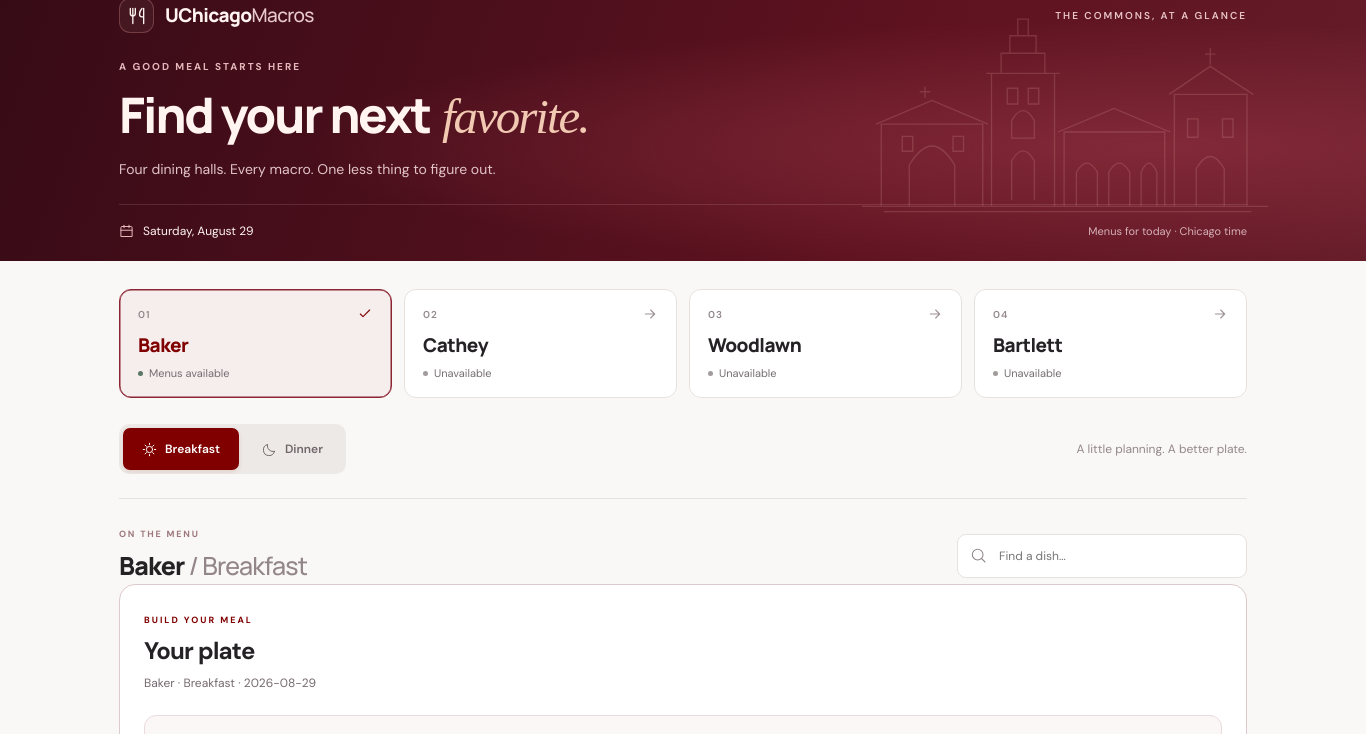
Test: continues in memory and explains when browser storage fails
Click the button "Breakfast" at {"x": 181, "y": 449}, box [123,428,239,470]
(page scrolled)
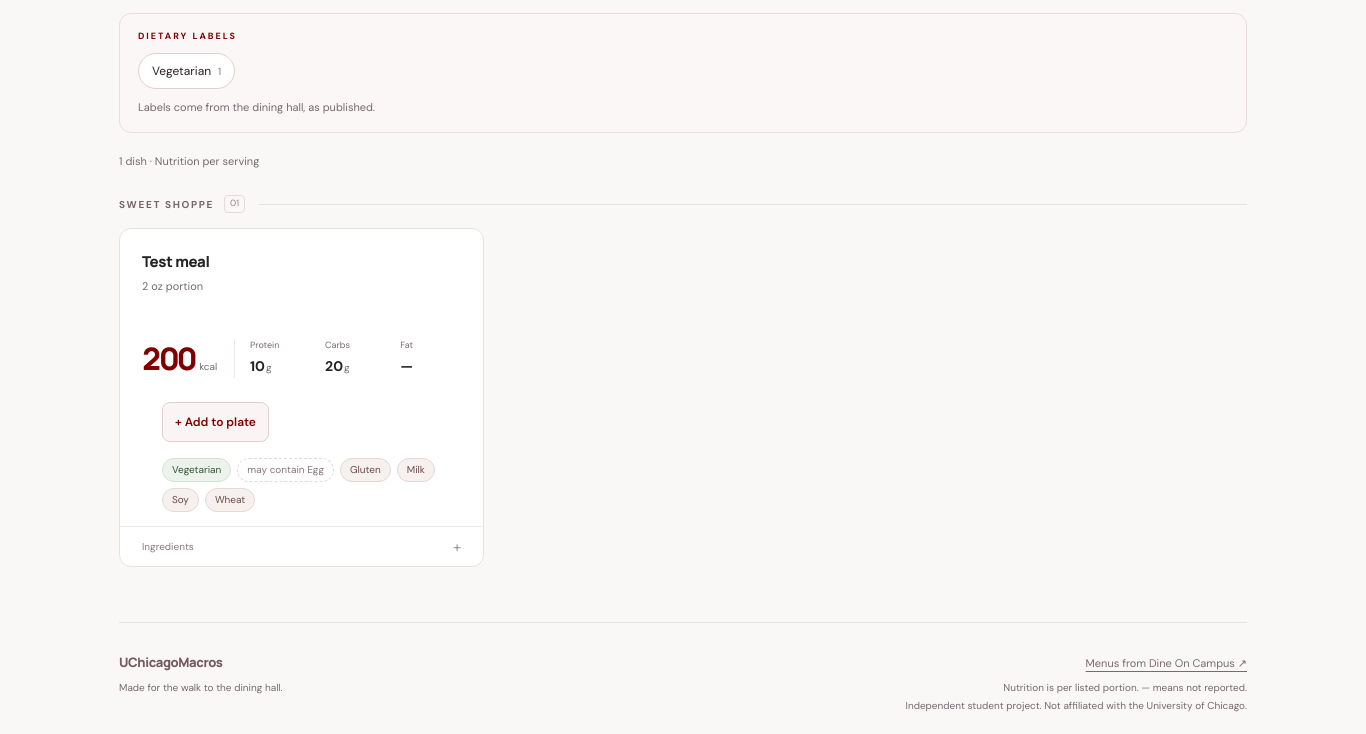
Click the button with aria-label "Add Test meal to plate" at {"x": 216, "y": 422}, box [162,402,269,442]
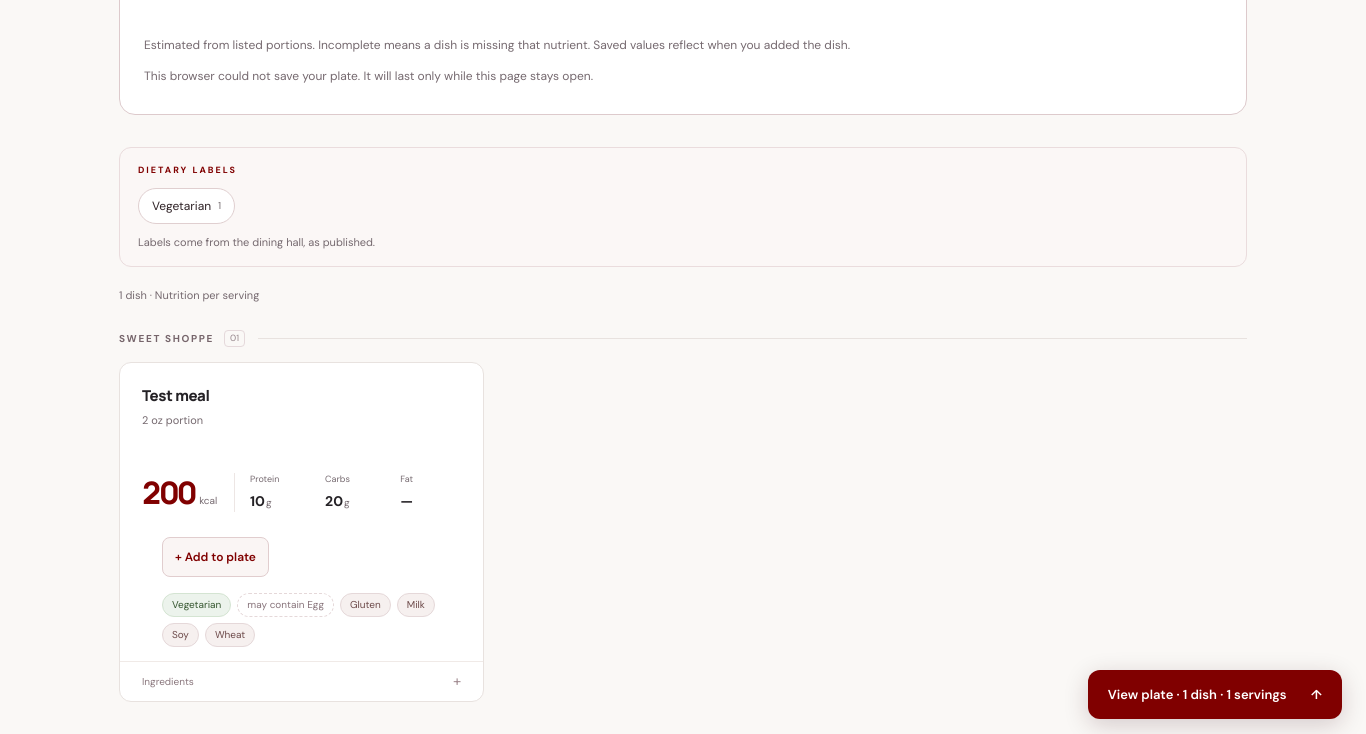
Expected: the text "This browser could not save your plate" is shown, [144,68,593,84]
